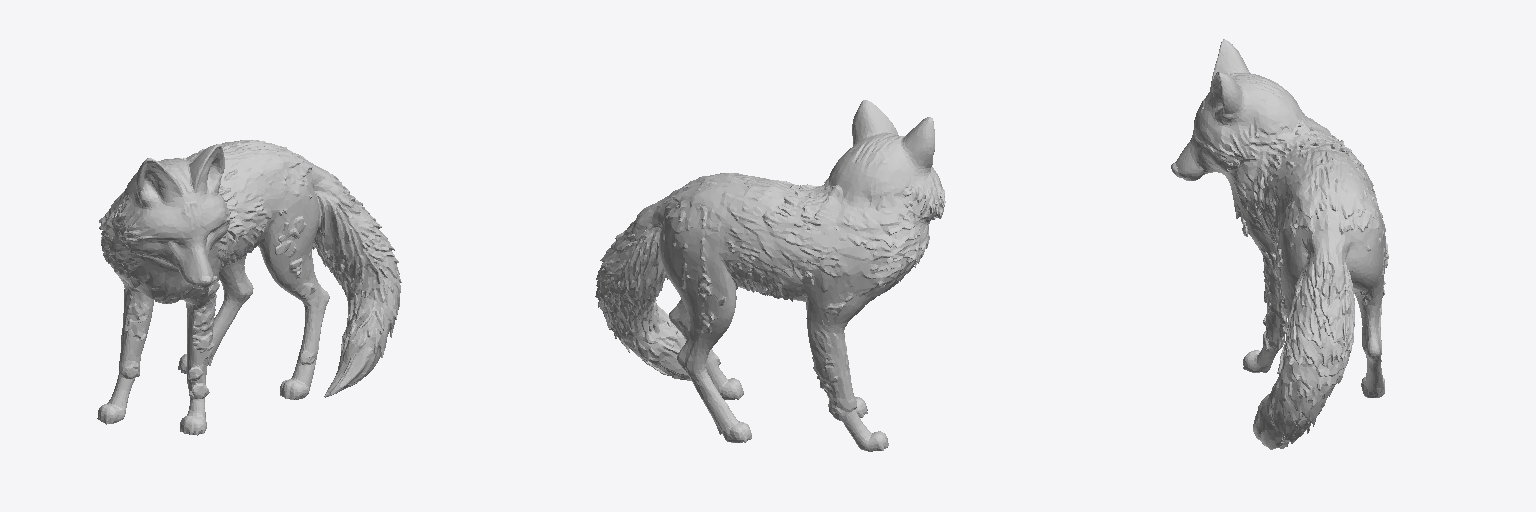
Rendered from test_input.obj.
3 renders of one model, left to right at view 1: azimuth 30°, elevation 25°; view 2: azimuth 150°, elevation 25°; view 3: azimuth 270°, elevation 25°, orthographic.
Parts seen in each view (by area): view 1: mesh_uvwrap; view 2: mesh_uvwrap; view 3: mesh_uvwrap.
Part boxes in pixels (x1,y1,x2,y2): mesh_uvwrap: (97, 140, 401, 435); mesh_uvwrap: (595, 100, 945, 451); mesh_uvwrap: (1171, 39, 1388, 449).
Bounding box in the file's own units: 1.99 × 1.85 × 1.21.